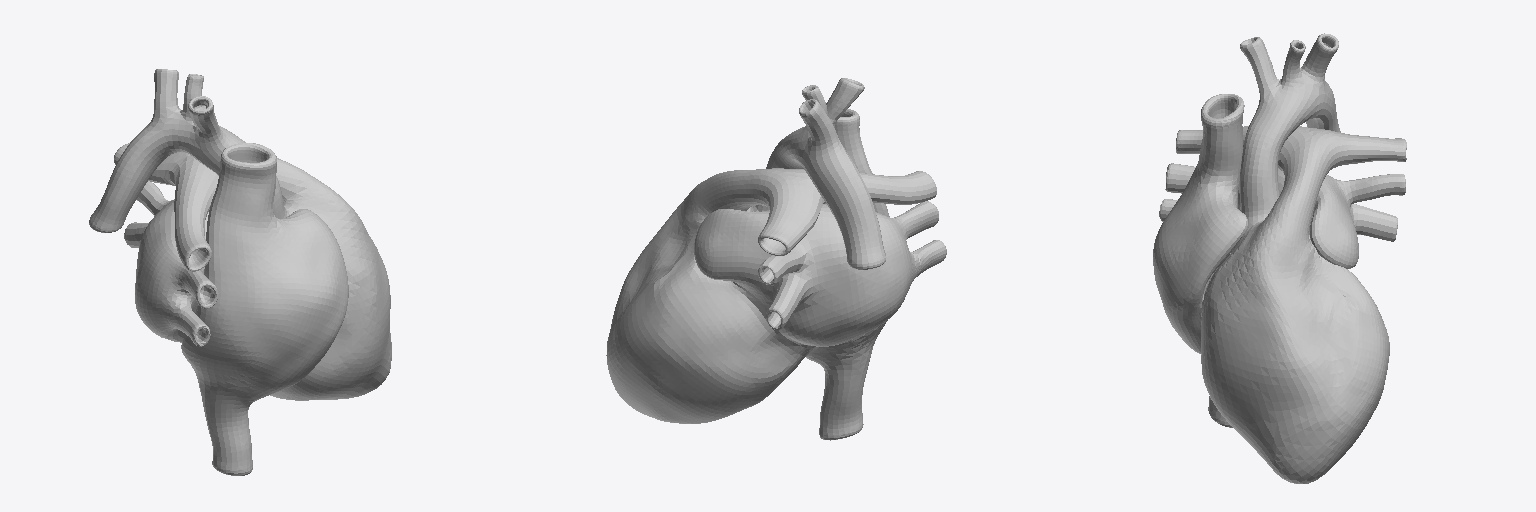
3 views of the same model, side by side, from view 1: azimuth 30°, elevation 25°; view 2: azimuth 150°, elevation 25°; view 3: azimuth 270°, elevation 25° (orthographic).
Visible parts, largest first — view 1: HEART_PRO; view 2: HEART_PRO; view 3: HEART_PRO.
Boxes of the visible parts, <box> form: HEART_PRO: <box>89,69,391,475</box>; HEART_PRO: <box>606,78,946,440</box>; HEART_PRO: <box>1153,33,1406,483</box>.
Size of the model in its own units: 639 by 819 by 502.